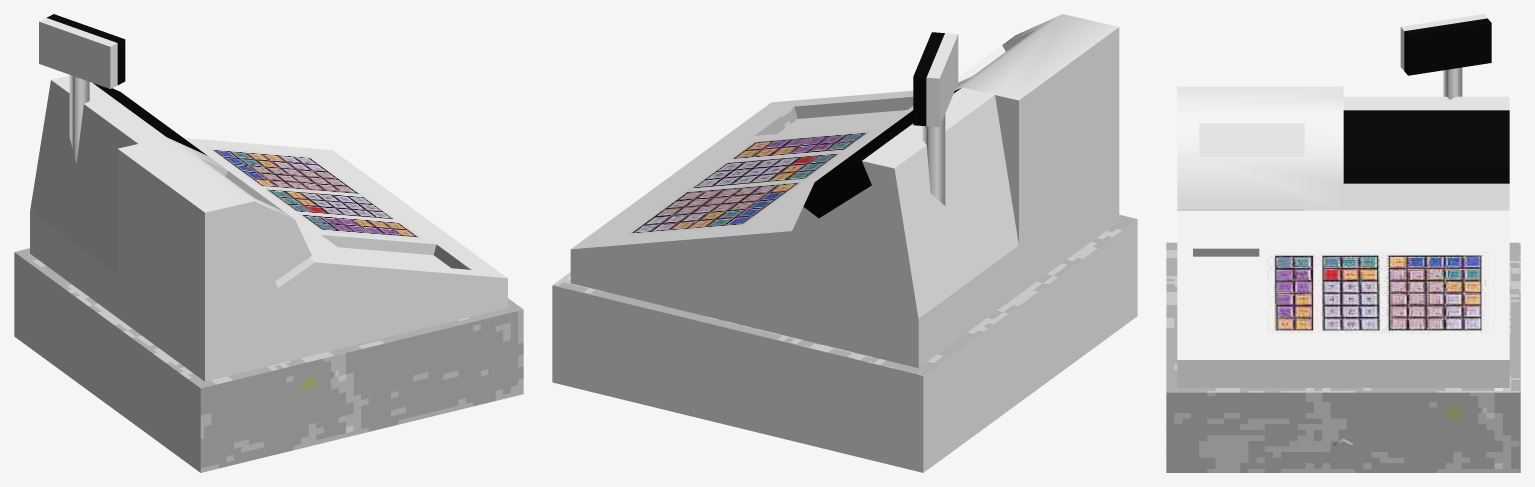
File: 收银机.fbx
3 renders of one model, left to right at view 1: azimuth 30°, elevation 25°; view 2: azimuth 150°, elevation 25°; view 3: azimuth 270°, elevation 25°, orthographic. The views are drawn at different scales.
Parts seen in each view (by area): view 1: skeC9_1, Group2; view 2: skeC9_1, Group2; view 3: skeC9_1, Group2.
Part boxes in pixels (box(x1,y1,x2,y2)): skeC9_1: box(14, 75, 523, 472); Group2: box(39, 14, 125, 163); skeC9_1: box(552, 14, 1137, 472); Group2: box(913, 32, 958, 205); skeC9_1: box(1166, 86, 1520, 472); Group2: box(1400, 14, 1491, 99).
Bounding box in the file's own units: 413 × 394 × 406.
